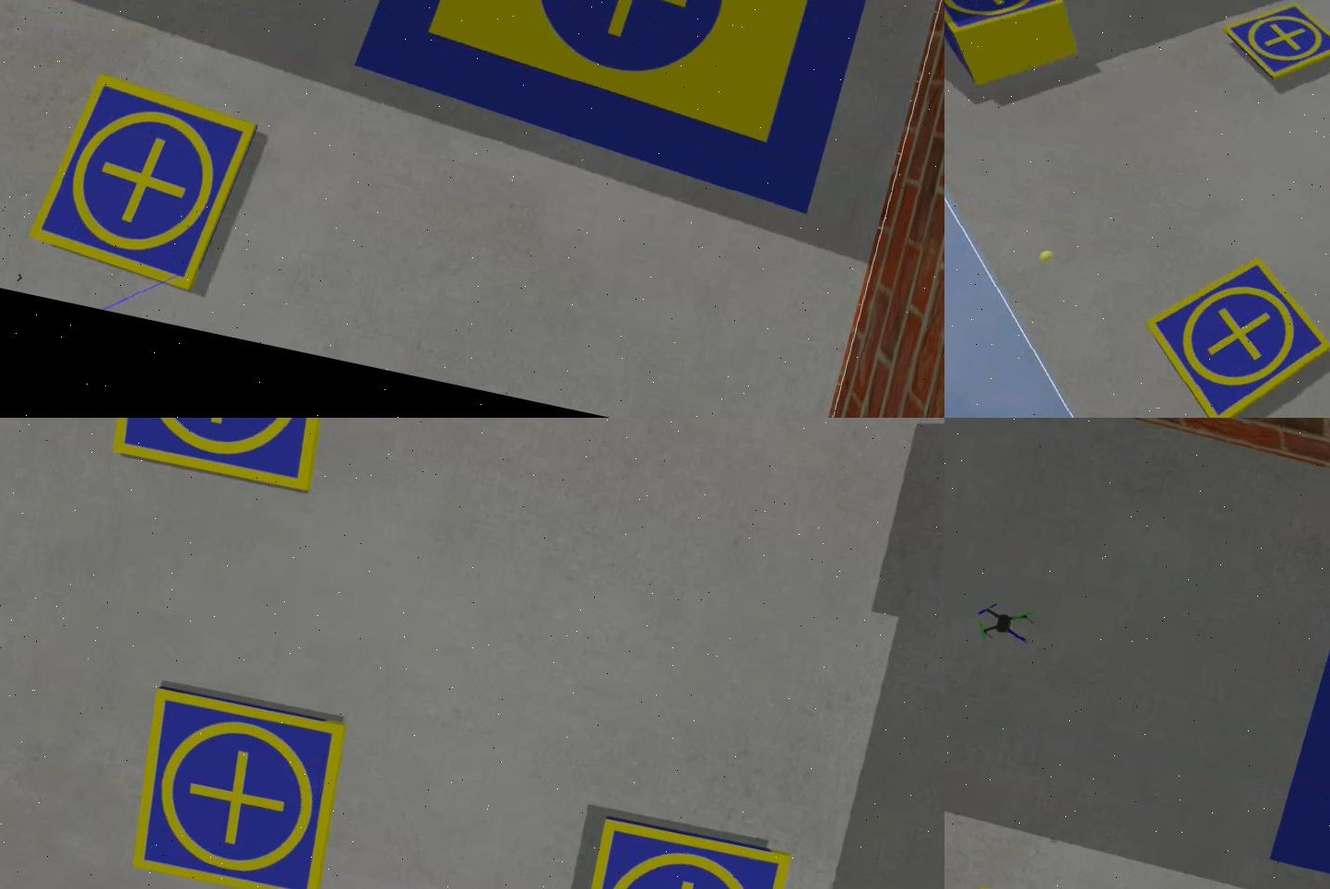large_base: (341, 1, 898, 218)
small_base: (18, 69, 259, 301), (116, 683, 352, 889), (1122, 238, 1328, 419), (86, 419, 352, 499), (563, 813, 792, 889), (1214, 1, 1328, 95), (944, 1, 1073, 59)
